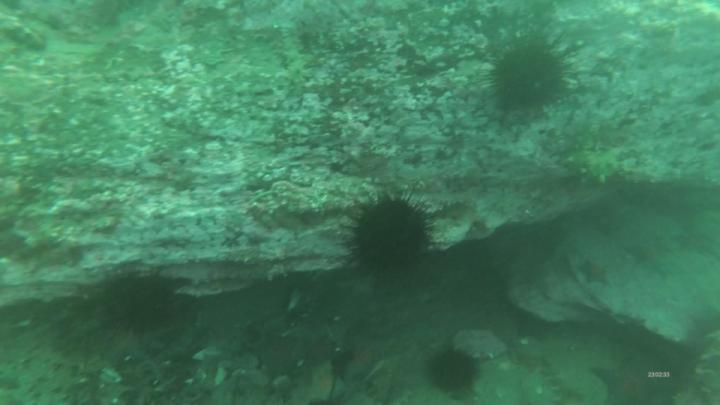echinus: (355, 199, 429, 278), (492, 47, 565, 108), (100, 274, 175, 332), (431, 353, 477, 393)
holothurian: (566, 149, 619, 183), (551, 358, 582, 405)
starfish: (595, 354, 678, 405), (352, 340, 393, 374), (307, 363, 340, 402)
